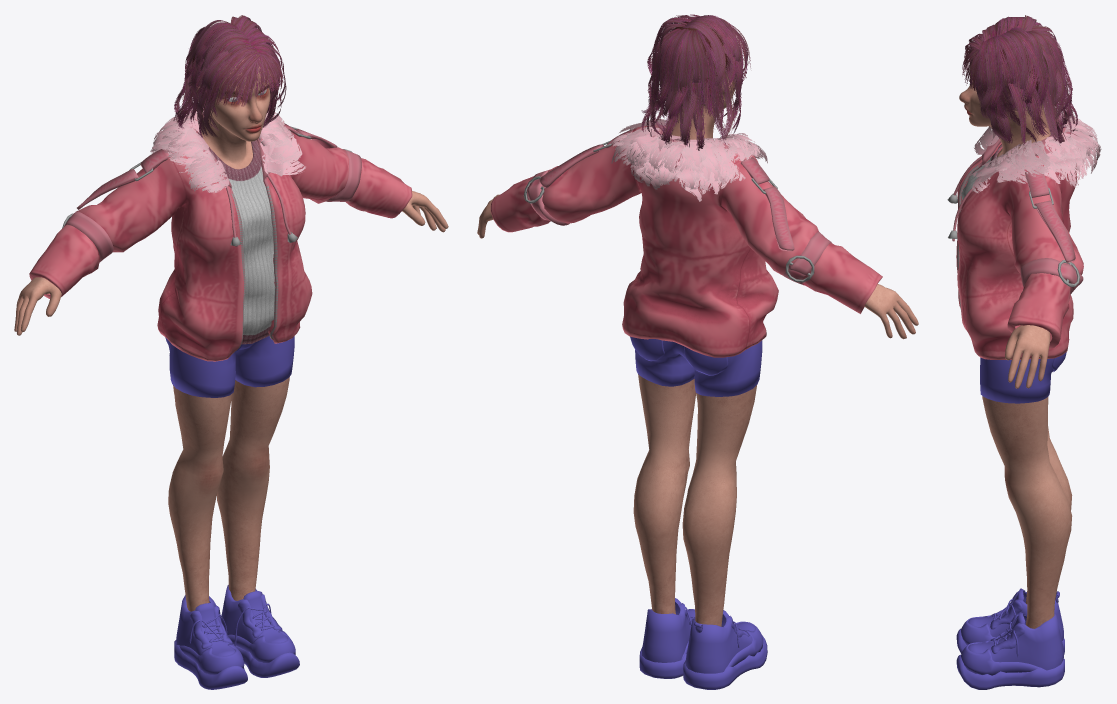
File: uploads_files_3579884_Kristi.fbx
3 renders of one model, left to right at view 1: azimuth 30°, elevation 25°; view 2: azimuth 150°, elevation 25°; view 3: azimuth 270°, elevation 25°, orthographic.
Visible parts, largest first — view 1: Jacket, Kristi, HairsMain, Sweater, JacketFur, Shorts, ShoeMain, HairsFront, ShoeDesign, Sole, WristBelts, JacketCollar (+2 smaller); view 2: Jacket, Kristi, HairsMain, JacketFur, ShoeMain, Shorts, Sole, ShoulderBelts, WristBelts, PocketsShorts, ShoeDesign; view 3: Jacket, Kristi, HairsMain, JacketFur, ShoeMain, ShoeDesign, Shorts, Sole, ShoulderBelts, WristBelts, HairsFront, JacketCollar (+3 smaller).
Part boxes in pixels (x1,y1,x2,y2): Jacket: (29, 131, 412, 361); Kristi: (14, 28, 448, 611); HairsMain: (173, 15, 286, 137); Sweater: (198, 132, 275, 344); JacketFur: (150, 108, 305, 192); Shorts: (166, 336, 294, 397); ShoeMain: (176, 585, 287, 656); HairsFront: (200, 45, 283, 106); ShoeDesign: (179, 595, 295, 674); Sole: (174, 640, 299, 689); WristBelts: (64, 149, 361, 262); JacketCollar: (178, 113, 278, 353); Jacket: (490, 126, 882, 357); Kristi: (477, 21, 918, 626); HairsMain: (641, 14, 748, 150); JacketFur: (610, 117, 767, 201); ShoeMain: (641, 598, 754, 673); Shorts: (635, 340, 762, 396); Sole: (639, 635, 767, 689); ShoulderBelts: (539, 128, 794, 251); WristBelts: (526, 169, 831, 284); PocketsShorts: (630, 336, 728, 375); ShoeDesign: (681, 604, 763, 671); Jacket: (956, 142, 1083, 359); Kristi: (959, 26, 1072, 628); HairsMain: (974, 15, 1077, 145); JacketFur: (968, 108, 1101, 193); ShoeMain: (968, 588, 1063, 670); ShoeDesign: (961, 592, 1039, 675); Shorts: (980, 357, 1053, 403); Sole: (956, 628, 1064, 689); ShoulderBelts: (1025, 170, 1075, 262); WristBelts: (1020, 258, 1083, 294); HairsFront: (962, 29, 1000, 90); JacketCollar: (957, 126, 1076, 311).
Size of the model in its own units: 124 by 178 by 38.55.
